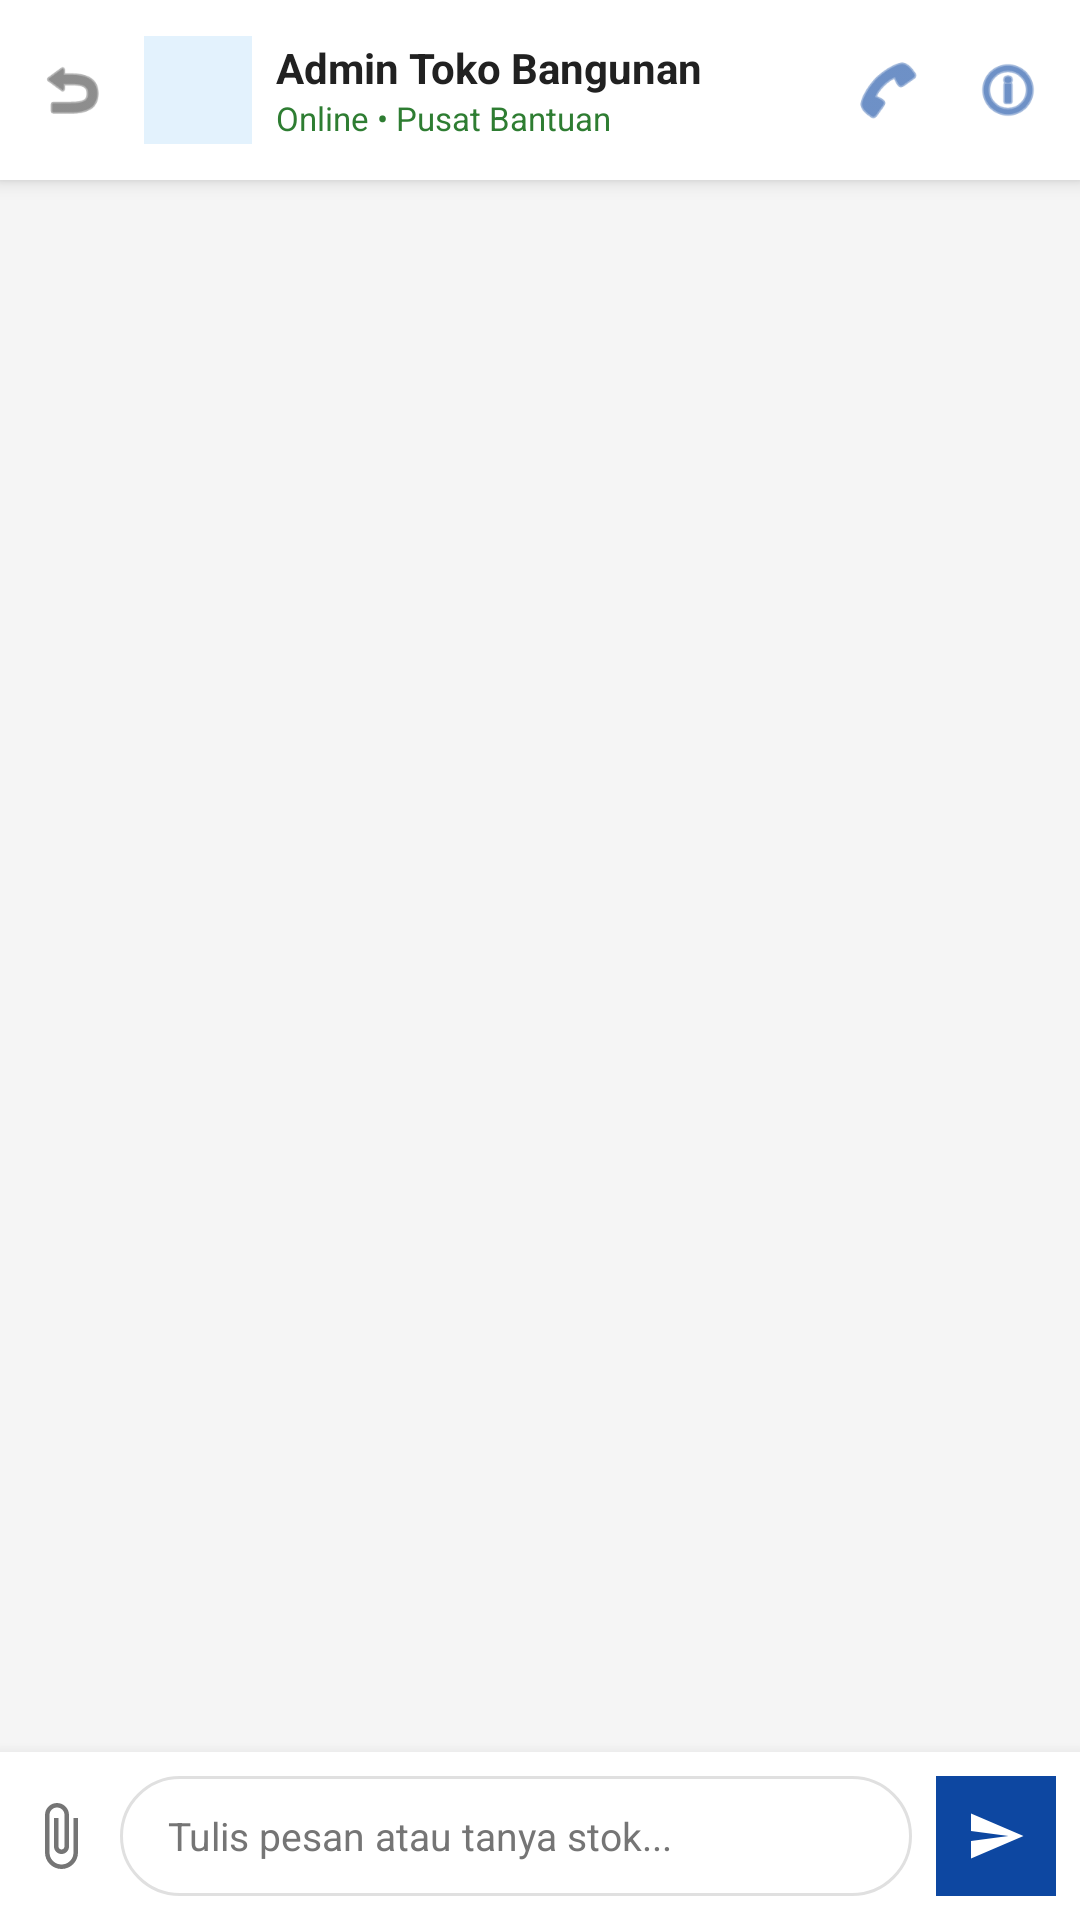

Screen size 1080px x 1920px. Icon name, then its box in pixels as (x1, y1, x2, y2):
attach: (45, 1803, 78, 1869)
call: (860, 62, 917, 119)
info details: (982, 64, 1034, 116)
revert: (47, 67, 99, 114)
send: (936, 1776, 1056, 1896)
